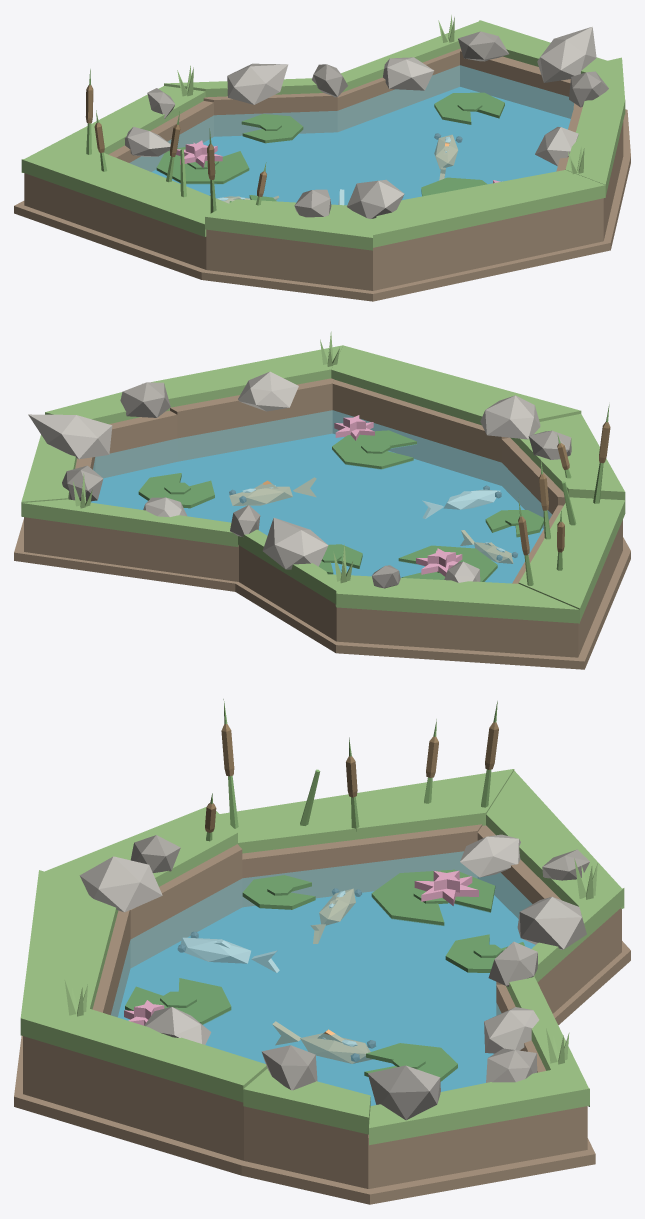
Rendered from Pond.fbx.
3 views of the same model, one above another, from view 1: azimuth 30°, elevation 25°; view 2: azimuth 150°, elevation 25°; view 3: azimuth 270°, elevation 25° (orthographic). The views are drawn at different scales.
Parts seen in each view (by area): view 1: Pond.Bank, Pond.RimGrass, Pond.Water, Pond.Bed, Pond.RocksMid, Pond.LilyPads, Pond.RocksDark, Pond.CattailHeads, Pond.Reeds, Pond.Fish1, Pond.LilyLotus; view 2: Pond.Bank, Pond.RimGrass, Pond.Water, Pond.Bed, Pond.RocksMid, Pond.LilyPads, Pond.RocksDark, Pond.LilyLotus, Pond.CattailHeads, Pond.Reeds, Pond.Fish1, Pond.Fish2 (+1 smaller); view 3: Pond.Bank, Pond.RimGrass, Pond.Water, Pond.Bed, Pond.RocksMid, Pond.LilyPads, Pond.RocksDark, Pond.CattailHeads, Pond.LilyLotus, Pond.Reeds, Pond.Fish1, Pond.Fish2 (+1 smaller).
Boxes of the visible parts, x1,y1,x2,y2 form: Pond.Bank: [14, 48, 630, 301]; Pond.RimGrass: [21, 15, 625, 250]; Pond.Water: [130, 65, 573, 205]; Pond.Bed: [152, 87, 570, 205]; Pond.RocksMid: [124, 26, 596, 218]; Pond.LilyPads: [156, 92, 504, 202]; Pond.RocksDark: [147, 31, 608, 217]; Pond.CattailHeads: [85, 85, 266, 196]; Pond.Reeds: [86, 69, 266, 213]; Pond.Fish1: [434, 135, 457, 180]; Pond.LilyLotus: [176, 140, 502, 183]; Pond.Bank: [14, 378, 630, 669]; Pond.RimGrass: [21, 331, 625, 623]; Pond.Water: [91, 410, 551, 583]; Pond.Bed: [91, 433, 543, 583]; Pond.RocksMid: [28, 371, 540, 582]; Pond.LilyPads: [138, 430, 543, 581]; Pond.RocksDark: [62, 382, 571, 588]; Pond.LilyLotus: [334, 415, 462, 576]; Pond.CattailHeads: [518, 422, 610, 555]; Pond.Reeds: [518, 404, 609, 585]; Pond.Fish1: [229, 477, 316, 505]; Pond.Fish2: [422, 489, 499, 518]; Pond.Bank: [14, 824, 630, 1204]; Pond.RimGrass: [20, 769, 624, 1145]; Pond.Water: [111, 851, 535, 1105]; Pond.Bed: [118, 891, 535, 1105]; Pond.RocksMid: [79, 834, 586, 1120]; Pond.LilyPads: [125, 869, 524, 1081]; Pond.RocksDark: [130, 835, 589, 1090]; Pond.CattailHeads: [205, 722, 498, 832]; Pond.LilyLotus: [124, 870, 478, 1025]; Pond.Reeds: [206, 699, 497, 841]; Pond.Fish1: [272, 1021, 372, 1063]; Pond.Fish2: [181, 937, 279, 972].
Size of the model in its own units: 9.23 by 2.3 by 6.55.
